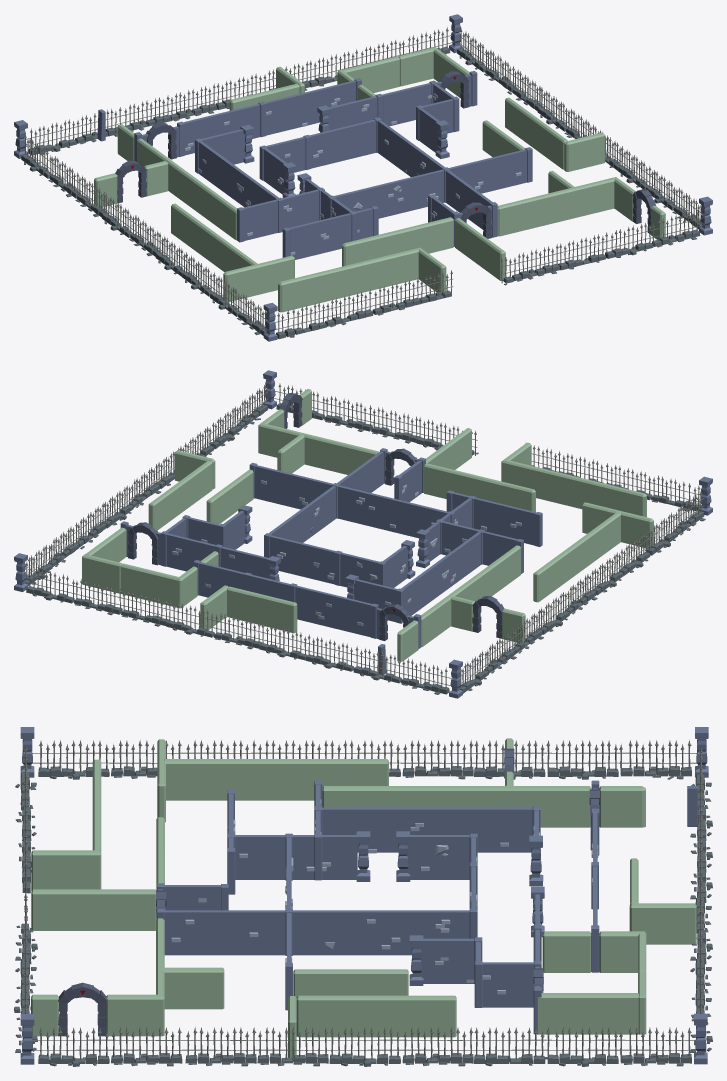
Rendered from labyrith_walls.fbx.
The picture shows the model from 3 angles, top to bottom: view 1: azimuth 30°, elevation 25°; view 2: azimuth 150°, elevation 25°; view 3: azimuth 270°, elevation 25°; orthographic projection. The views are drawn at different scales.
Visible parts, largest first — view 1: polySurface685; view 2: polySurface685; view 3: polySurface685.
Boxes of the visible parts, box(x1,y1,x2,y2) form: polySurface685: box(14, 14, 712, 341); polySurface685: box(14, 370, 712, 698); polySurface685: box(14, 727, 712, 1066).
Bounding box in the file's own units: 308 × 24.34 × 306.
